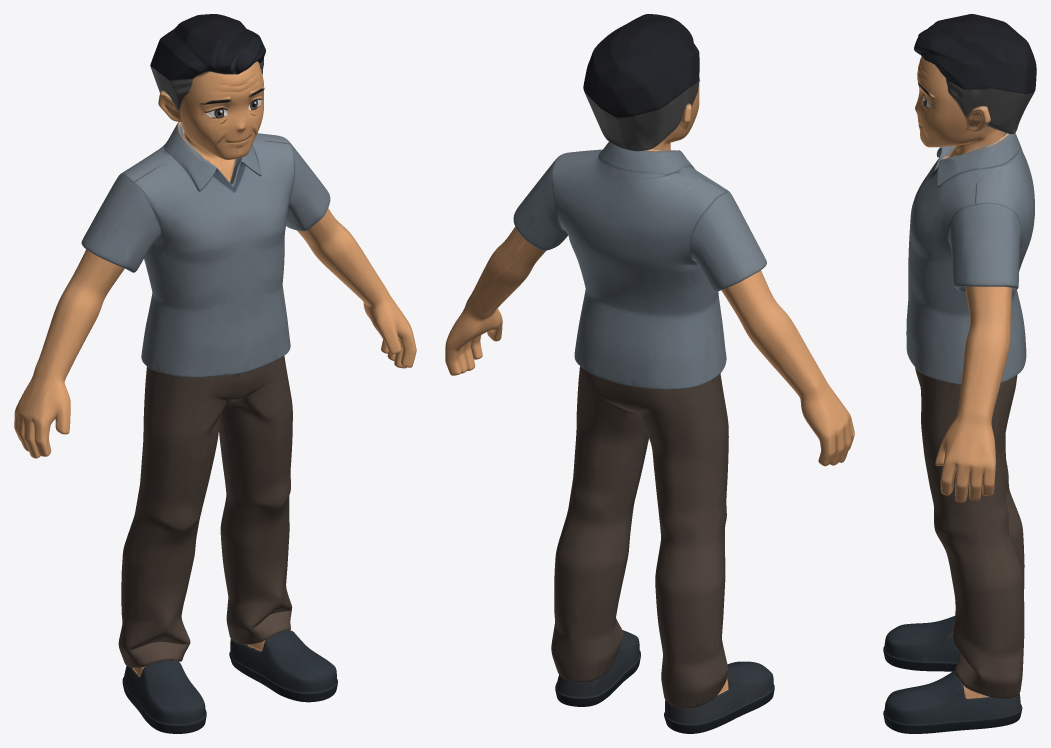
Rendered from Ayah_Original.glb.
The picture shows the model from 3 angles, left to right: view 1: azimuth 30°, elevation 25°; view 2: azimuth 150°, elevation 25°; view 3: azimuth 270°, elevation 25°; orthographic projection.
Parts seen in each view (by area): view 1: Ayah_Meshy; view 2: Ayah_Meshy; view 3: Ayah_Meshy.
Part boxes in pixels (x1,y1,x2,y2): Ayah_Meshy: [14, 14, 416, 733]; Ayah_Meshy: [445, 14, 854, 733]; Ayah_Meshy: [883, 14, 1036, 733].
Size of the model in its own units: 1.03 by 1.7 by 0.3523.
1 material, 1 textured.
